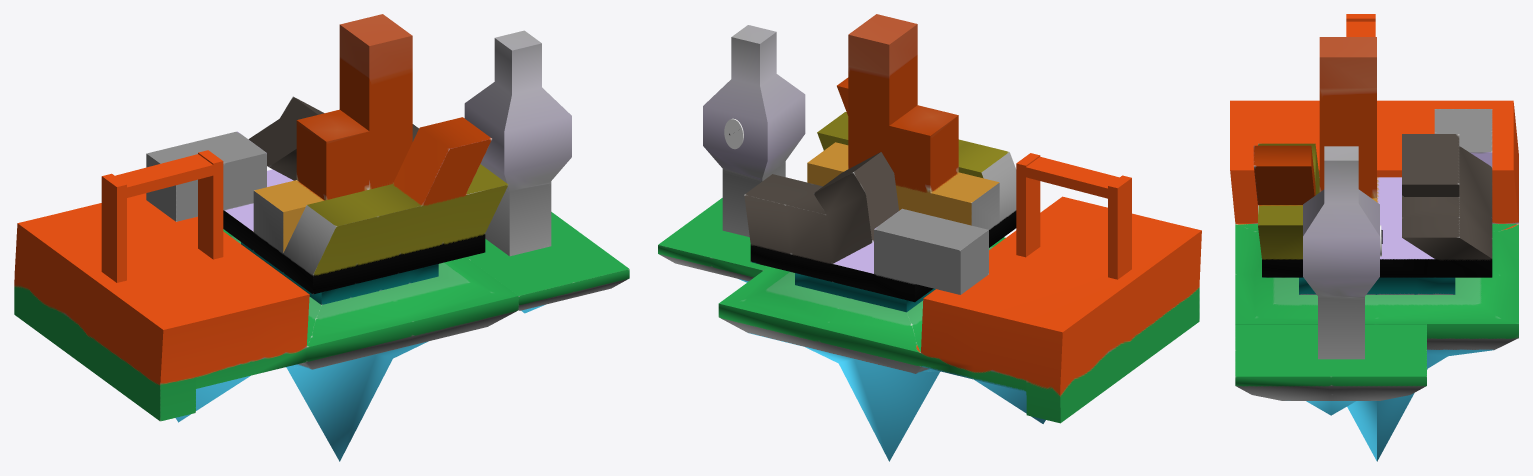
Rendered from skyBulding2.obj.
The picture shows the model from 3 angles, left to right: view 1: azimuth 30°, elevation 25°; view 2: azimuth 150°, elevation 25°; view 3: azimuth 270°, elevation 25°; orthographic projection. The views are drawn at different scales.
Visible parts, largest first — view 1: 立方体.004; view 2: 立方体.004; view 3: 立方体.004.
Part boxes in pixels (left/top/right/bottom): 立方体.004: left=14, top=14, right=629, bottom=461; 立方体.004: left=658, top=14, right=1201, bottom=461; 立方体.004: left=1230, top=14, right=1518, bottom=461.
Size of the model in its own units: 13.71 by 12.22 by 7.52.
1 material, 1 textured.
